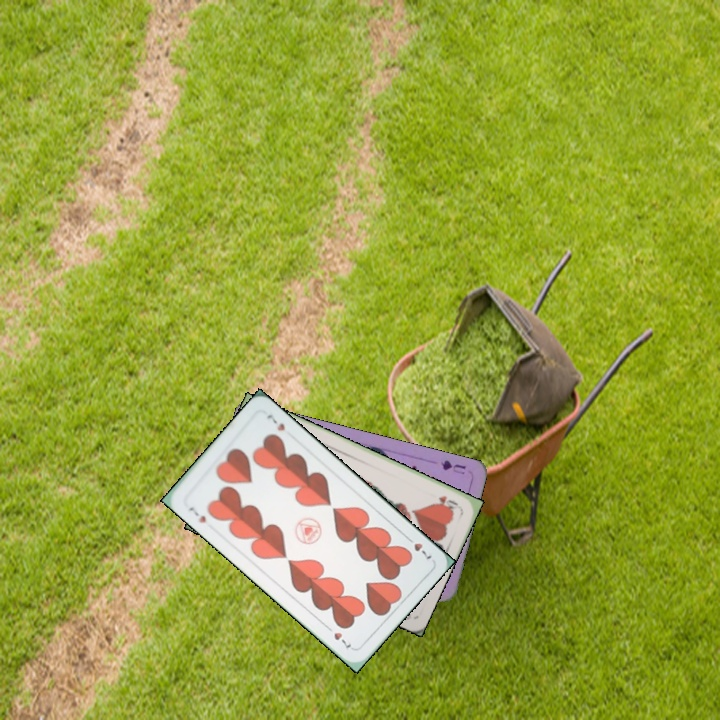GU: (436, 456, 468, 477)
H7: (401, 532, 434, 563), (185, 502, 209, 526)
HO: (432, 491, 461, 512)
